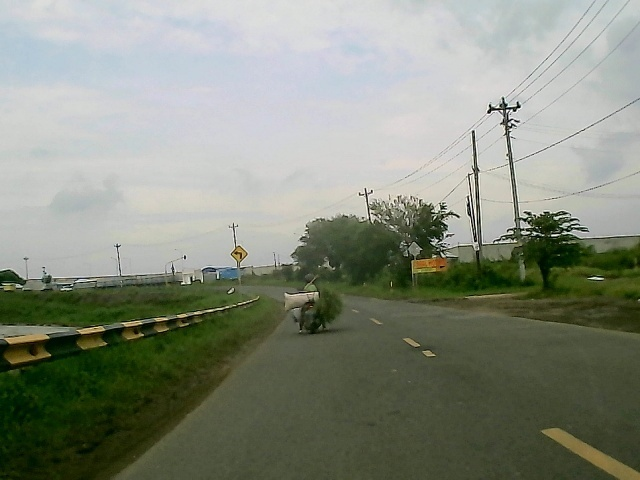Tikungan tajam ke kiri: (229, 244, 249, 264)
